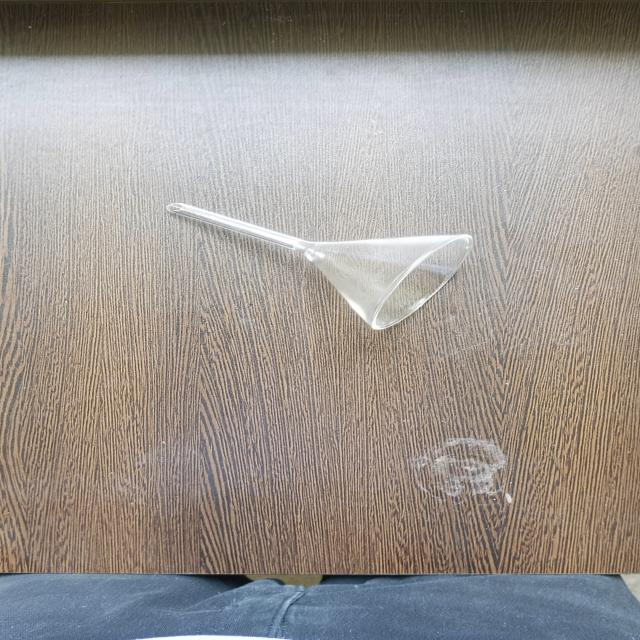funnel: (146, 186, 493, 339)
